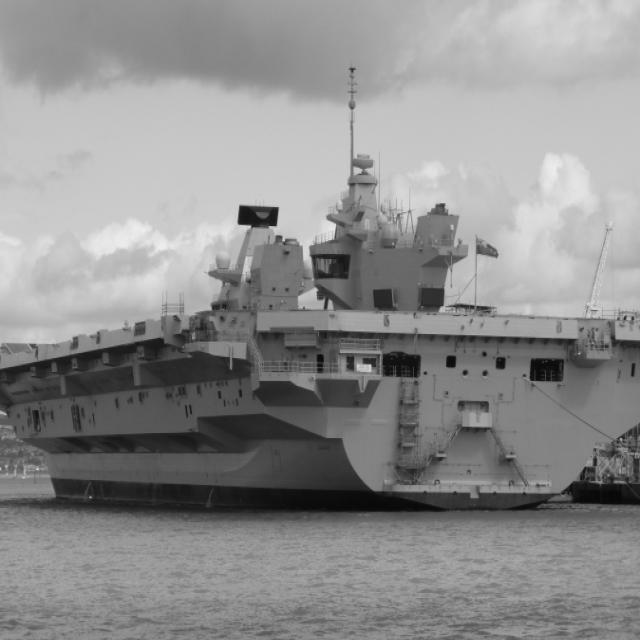Portanaves: (1, 117, 640, 524)
